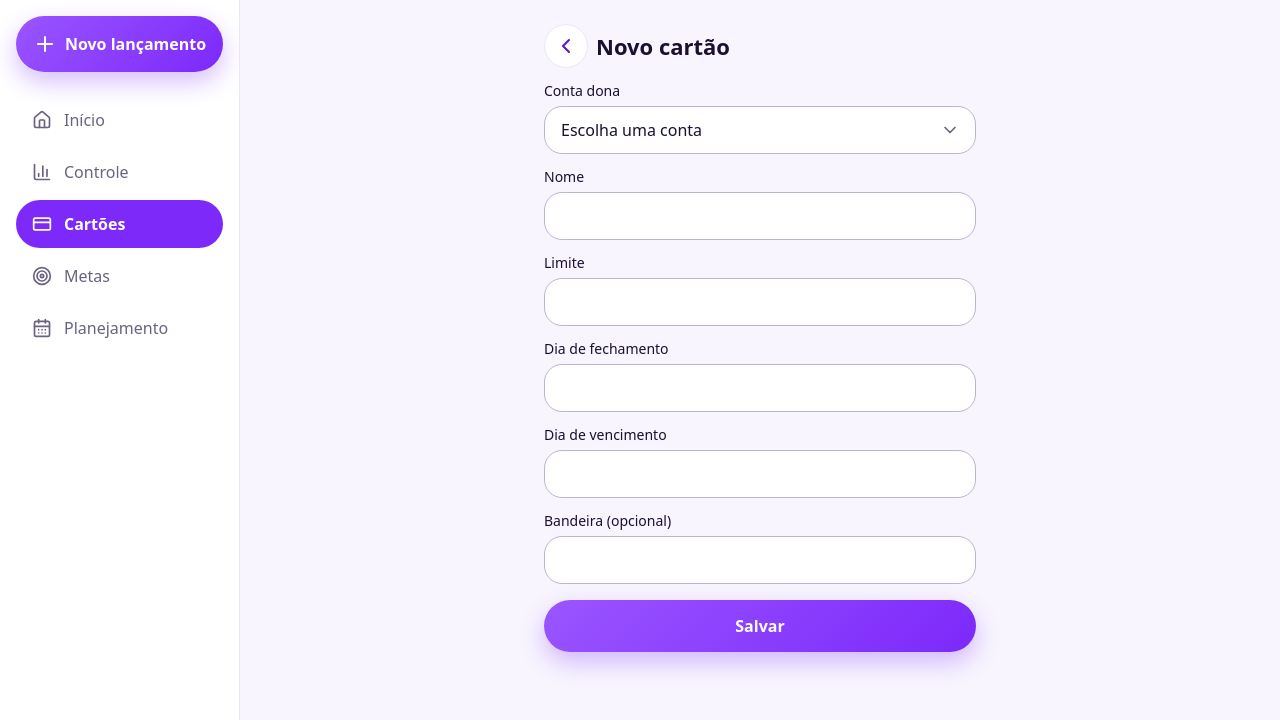
Test case: cadastro de cartão (CA-4.01) › dia 32 é recusado pelo servidor e a mensagem aparece no campo
Expected: the heading "Novo cartão" is shown, [596, 31, 730, 61]
Select "Conta Conjunta" in the dropdown labelled "Conta dona" at (760, 130), box [544, 106, 976, 154]
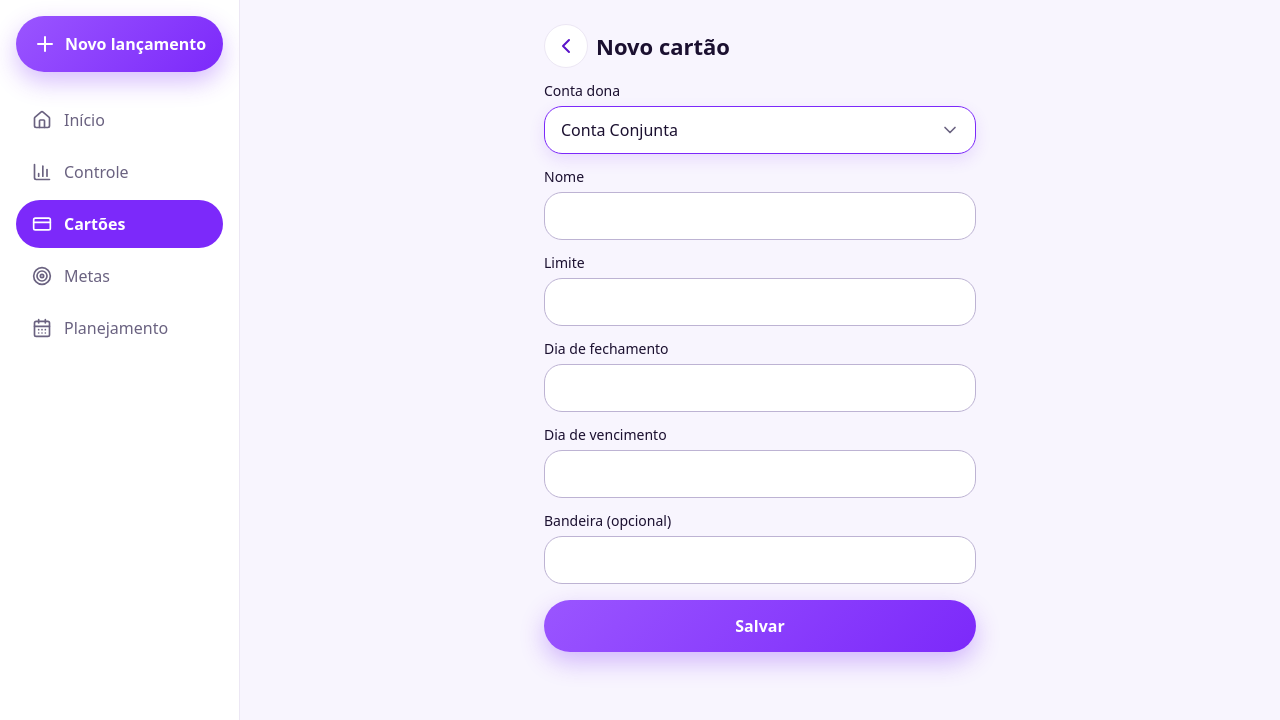
Type "X" into the field labelled "Nome" at (760, 216), box [544, 192, 976, 240]
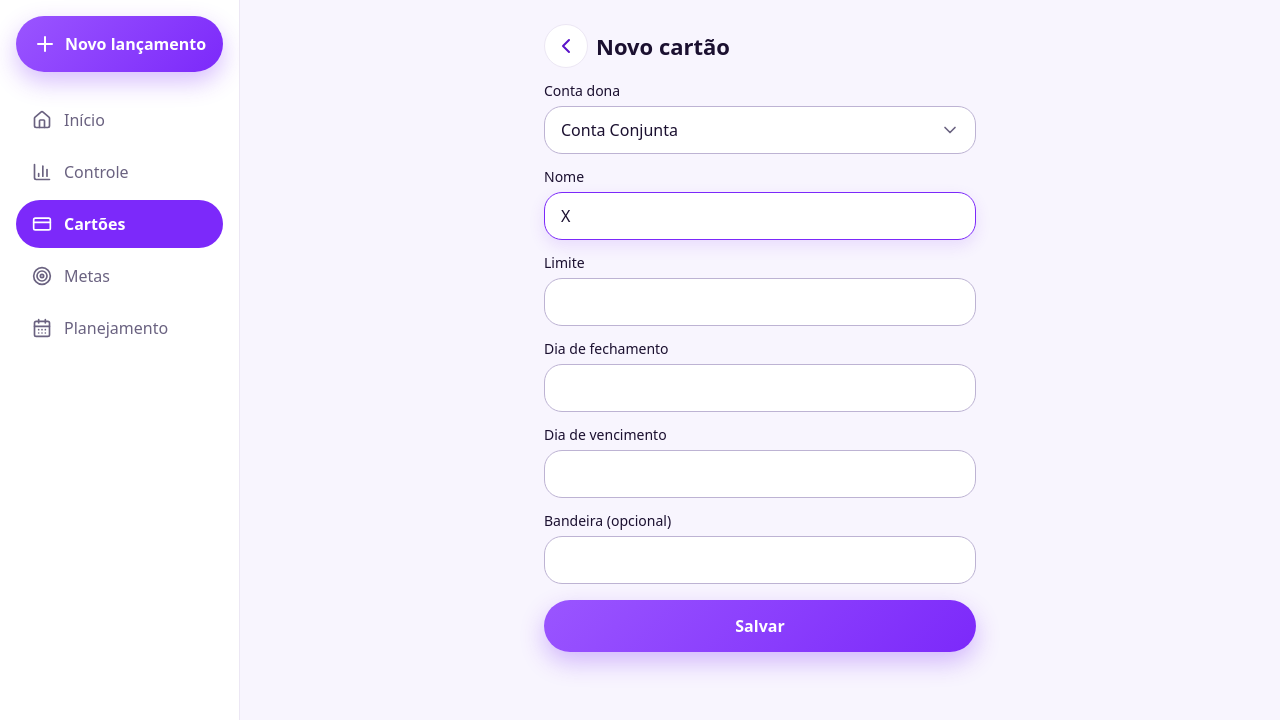
Type "100000" into the field labelled "Limite" at (760, 302), box [544, 278, 976, 326]
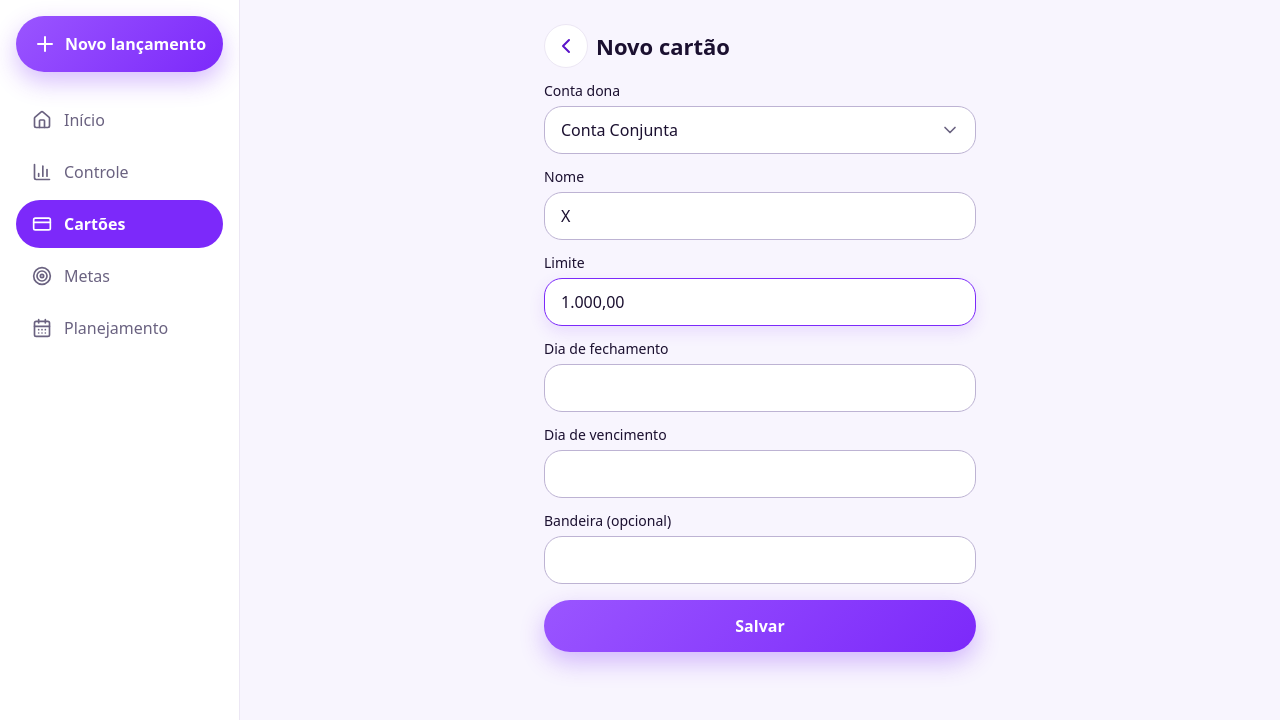
Type "32" into the field labelled "Dia de fechamento" at (760, 388), box [544, 364, 976, 412]
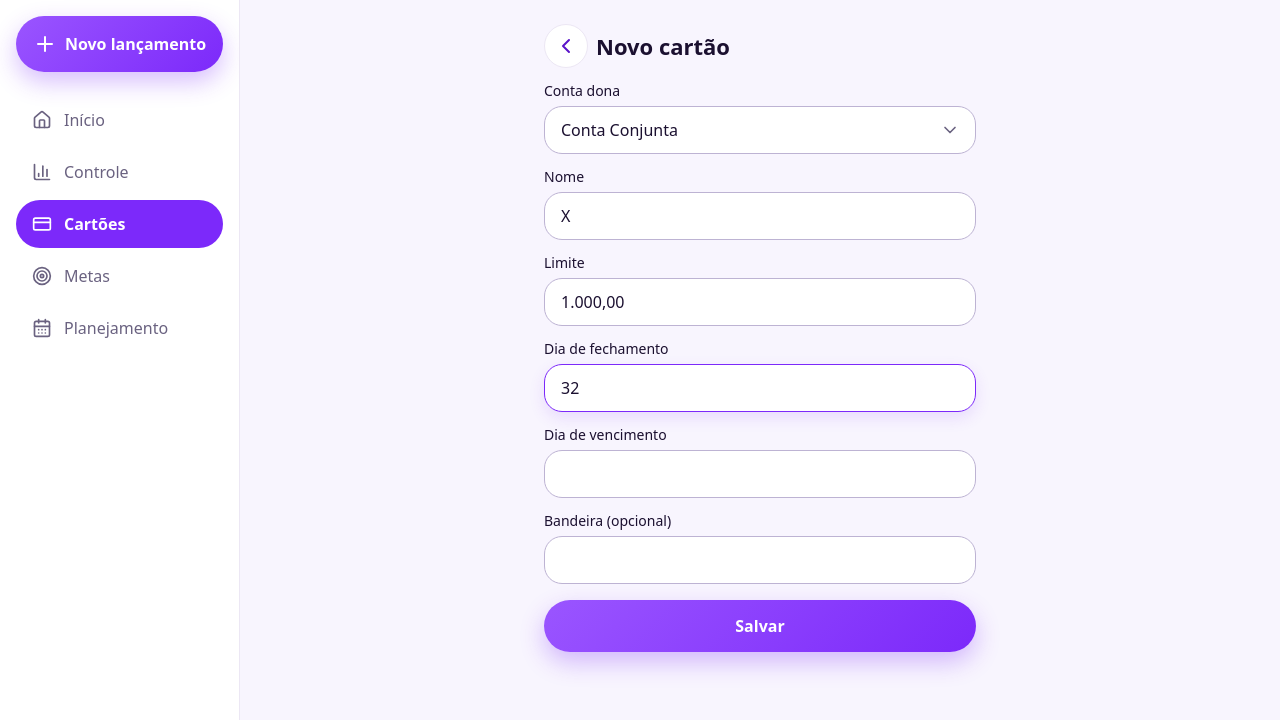
Type "17" into the field labelled "Dia de vencimento" at (760, 474), box [544, 450, 976, 498]
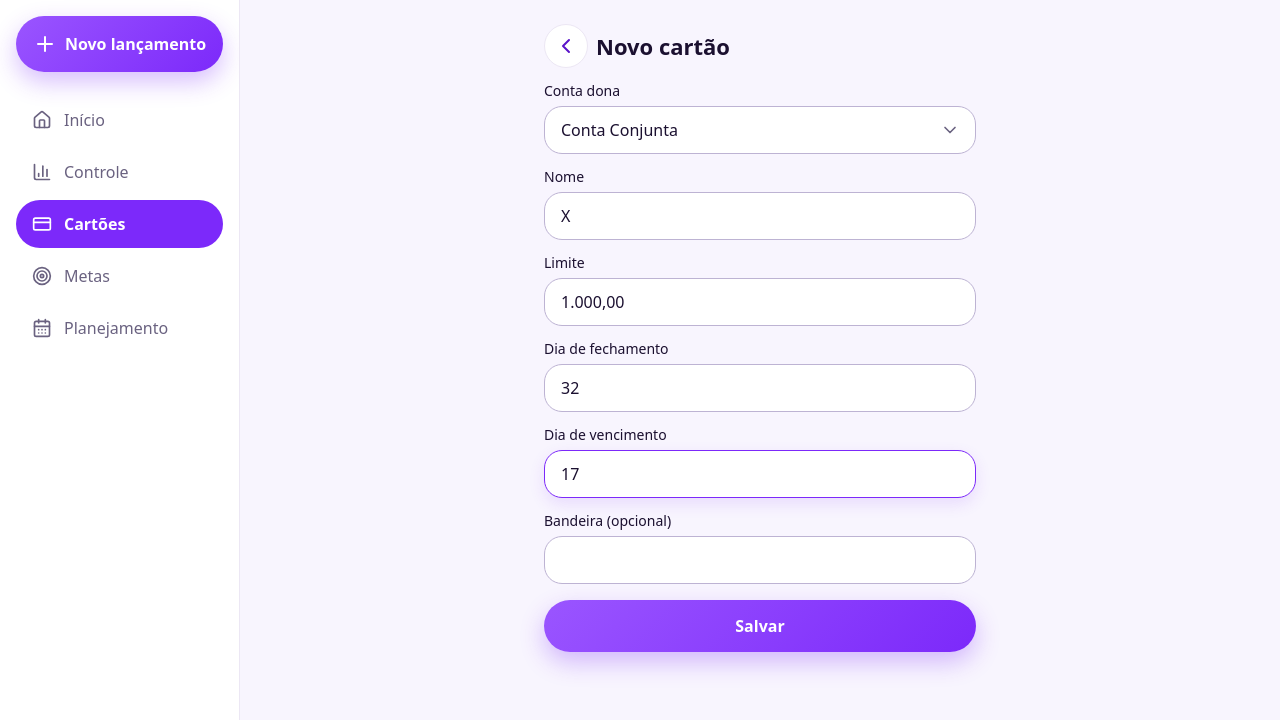
Click the button "Salvar" at (760, 626), box [544, 600, 976, 652]
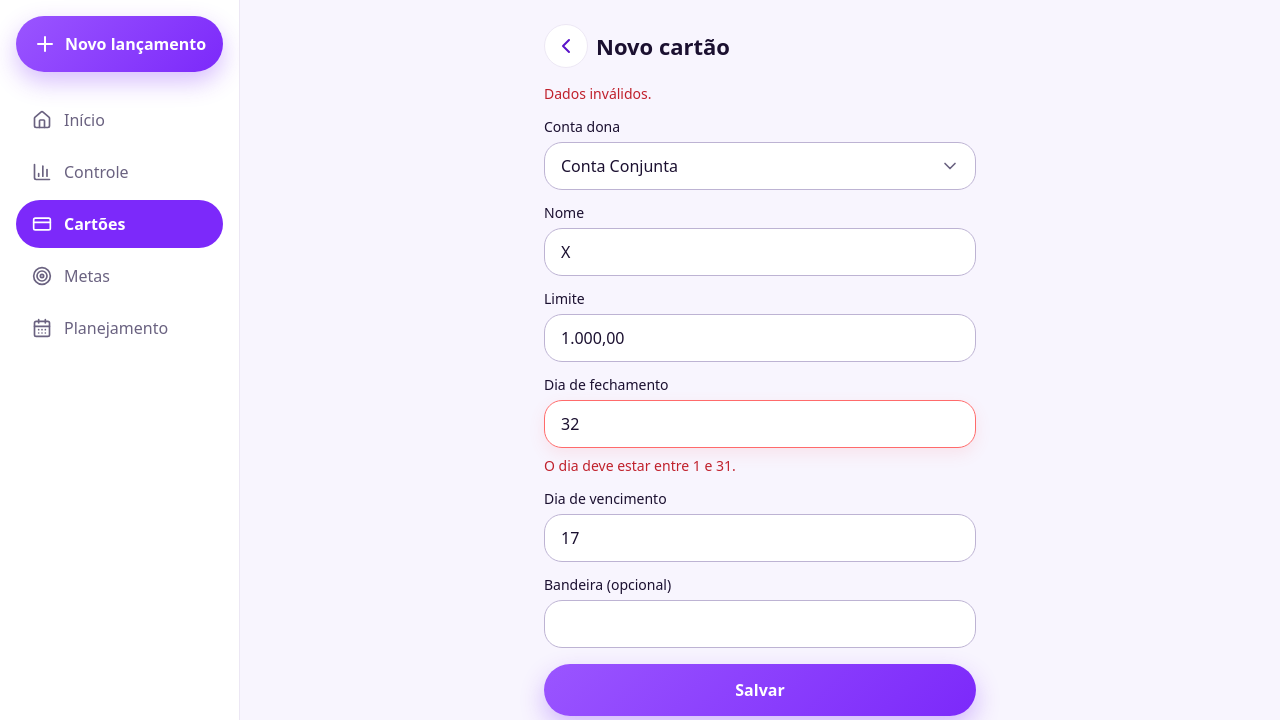
Expected: the heading "Novo cartão" is shown, [596, 31, 730, 61]
Expected: the text "O dia deve estar entre 1 e 31." is shown, [544, 456, 736, 475]
Expected: the message reads "Dados inválidos.", [544, 84, 652, 103]
